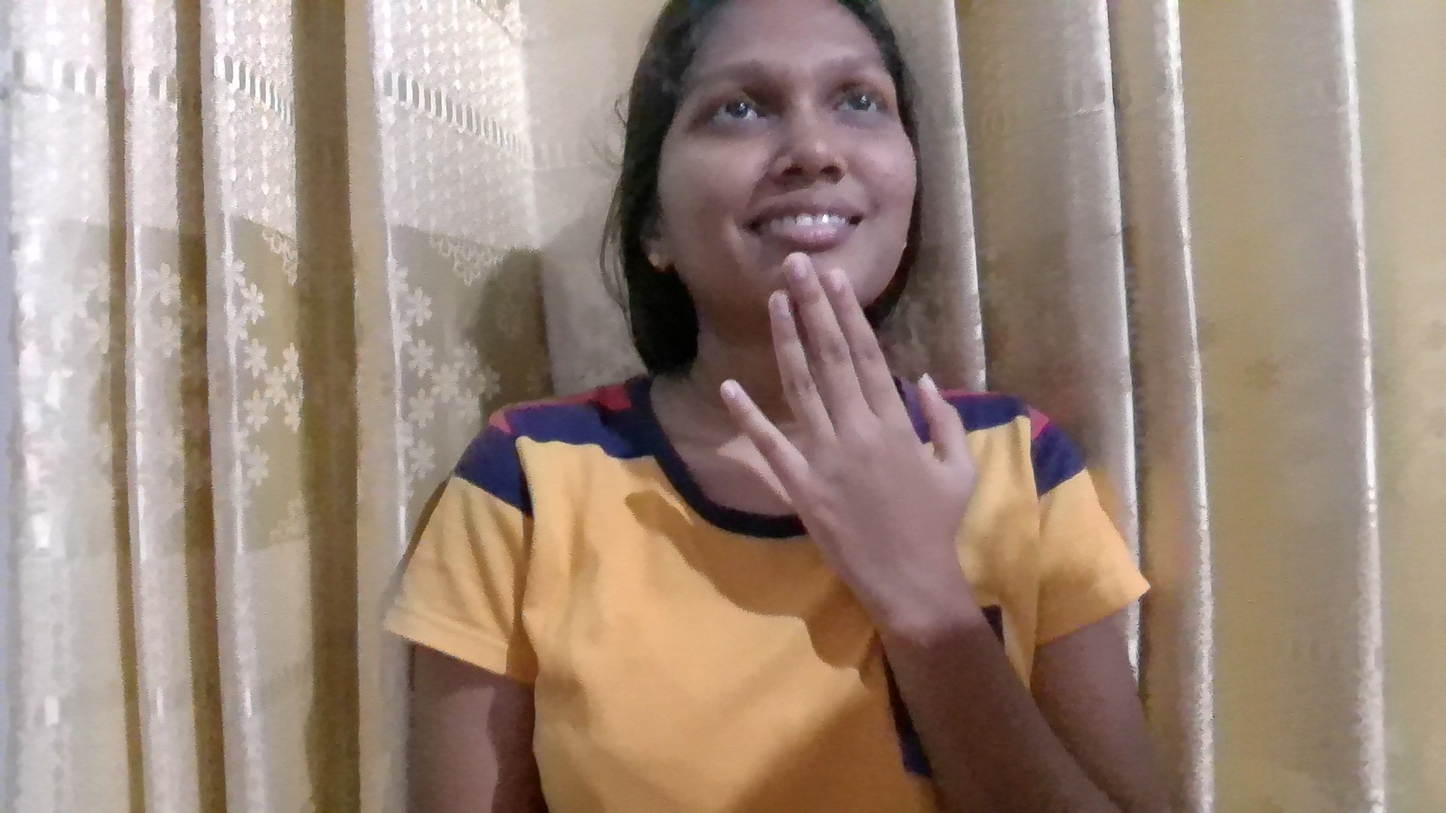Thank You: (493, 245, 1155, 703)
